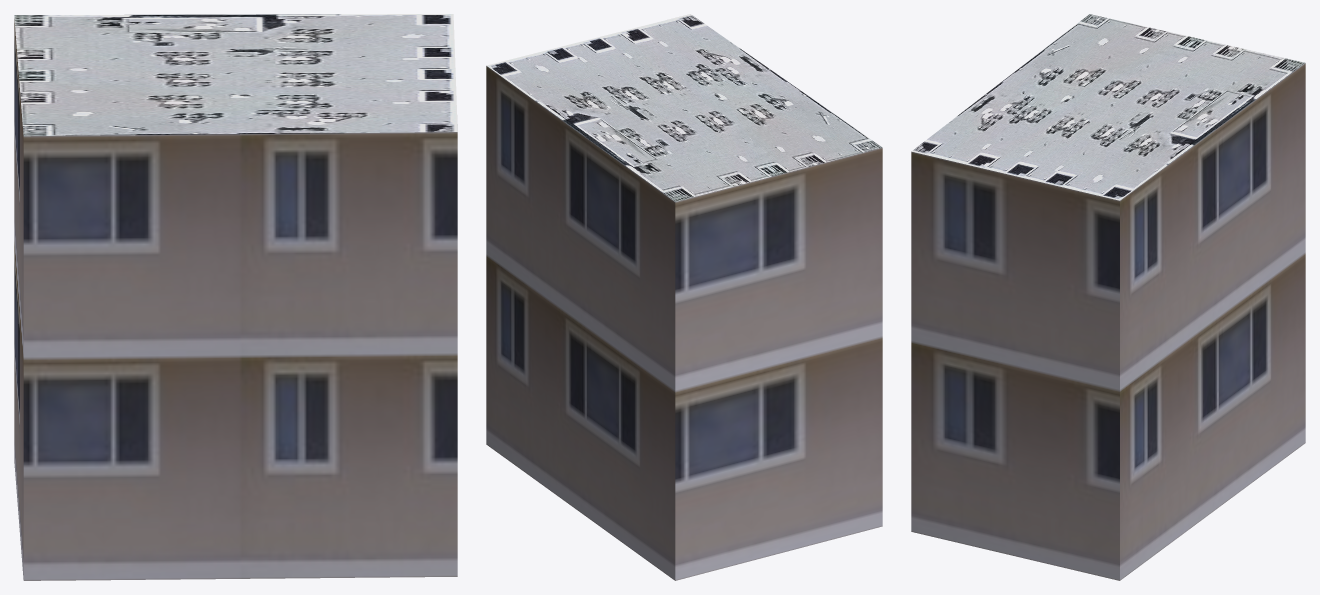
Rendered from ResTex__1000.fbx.
3 renders of one model, left to right at view 1: azimuth 30°, elevation 25°; view 2: azimuth 150°, elevation 25°; view 3: azimuth 270°, elevation 25°, orthographic. The views are drawn at different scales.
Visible parts, largest first — view 1: CityEngineMaterial_21_m, CityEngineMaterial_m; view 2: CityEngineMaterial_21_m, CityEngineMaterial_m; view 3: CityEngineMaterial_21_m, CityEngineMaterial_m.
Boxes of the visible parts, x1,y1,x2,y2 form: CityEngineMaterial_21_m: (14,19,457,580); CityEngineMaterial_m: (14,14,457,136); CityEngineMaterial_21_m: (486,66,882,580); CityEngineMaterial_m: (486,14,882,201); CityEngineMaterial_21_m: (911,63,1305,580); CityEngineMaterial_m: (911,14,1305,200).
Size of the model in its own units: 6.32 by 6 by 5.64.
2 materials, 2 textured.
